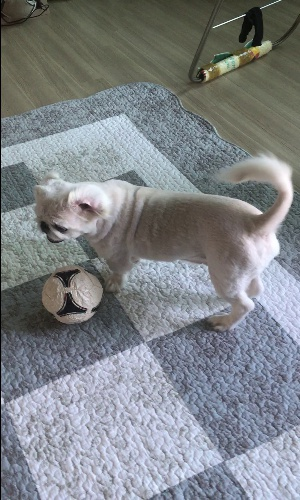ddubi: (26, 152, 299, 337)
